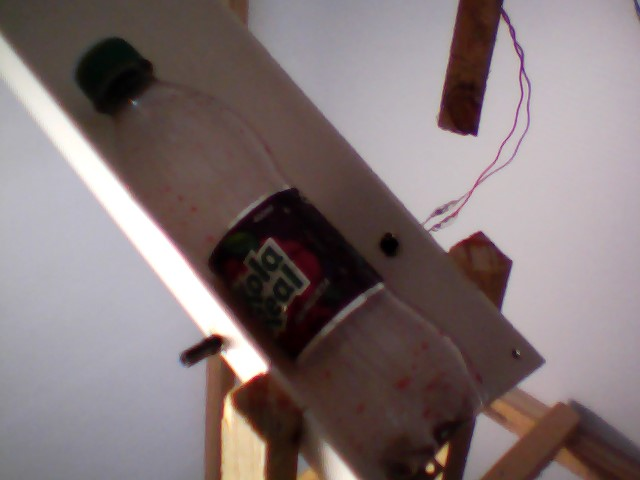plastico: (63, 29, 500, 480)
